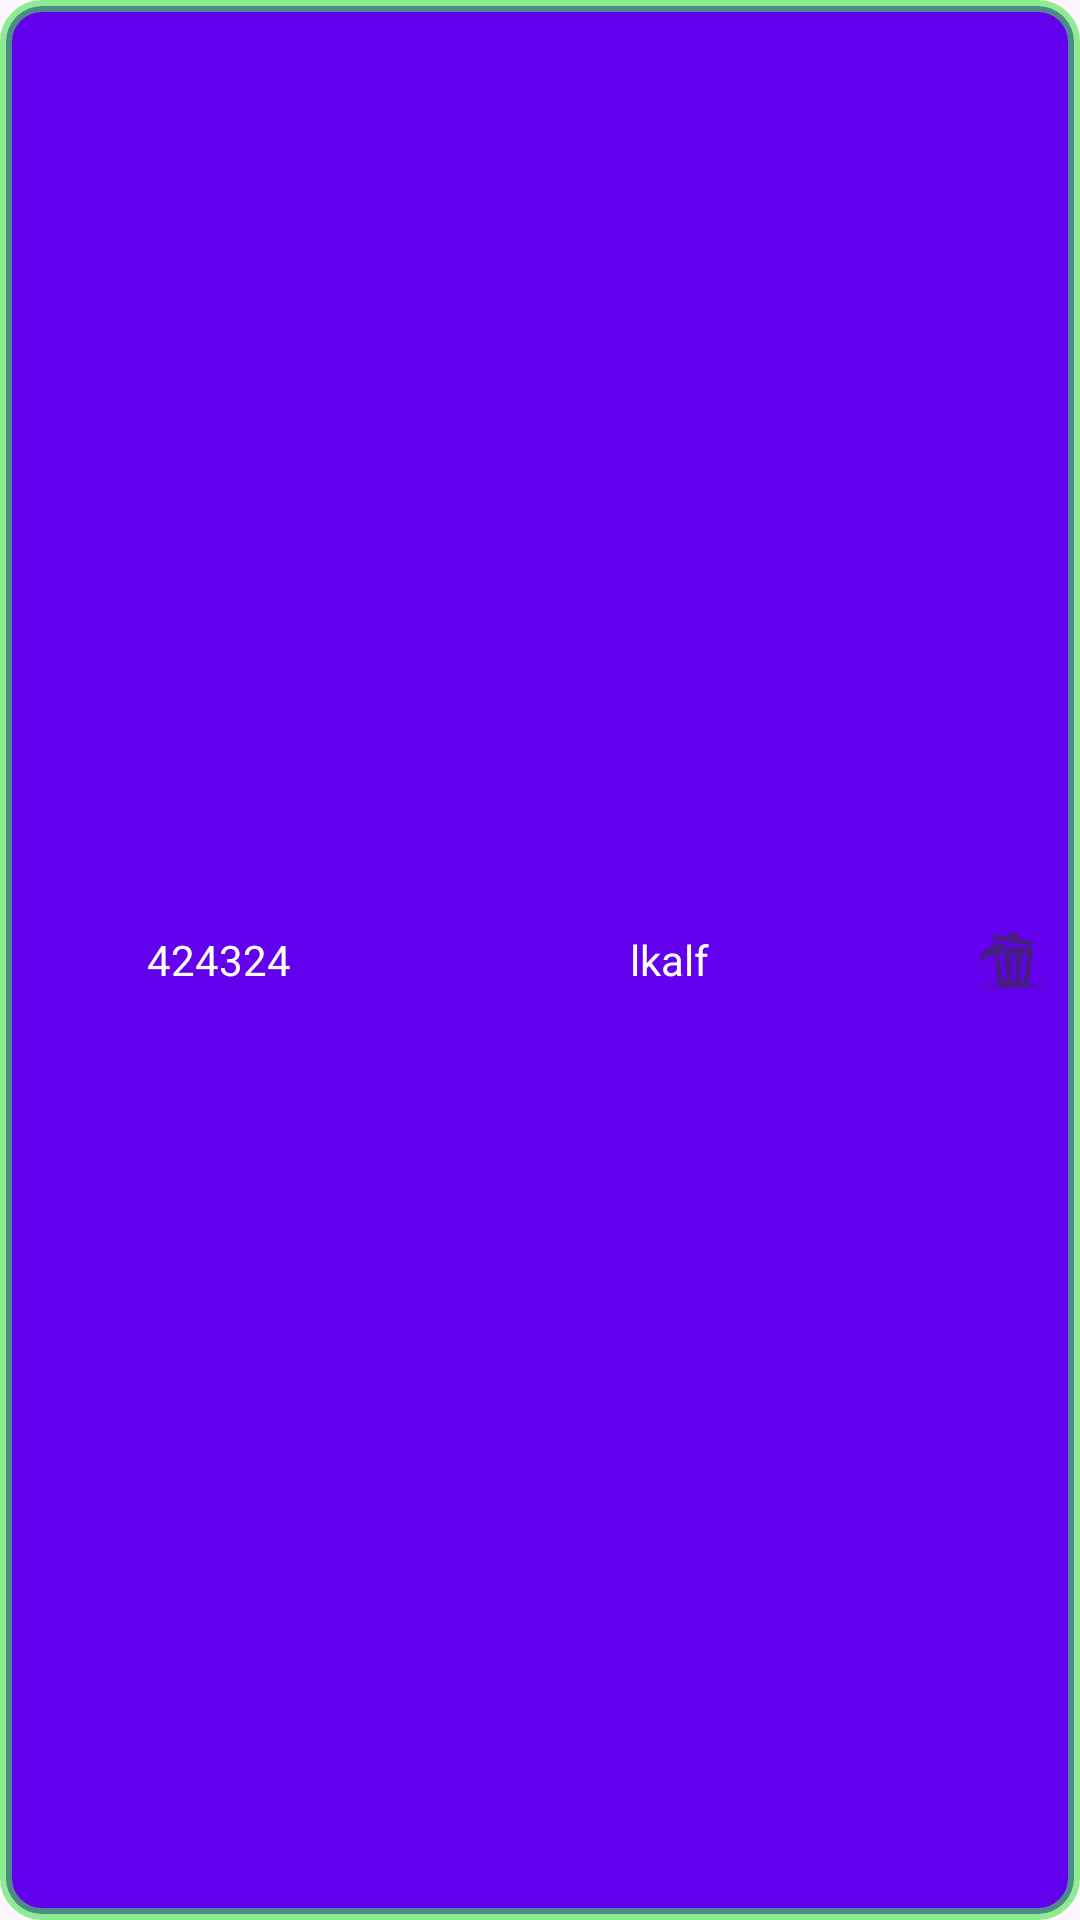

Where icons sit on this 1080 x 1920 app screen, as (x1, y1, x2, y2):
deletbutton: (980, 932, 1045, 989)
